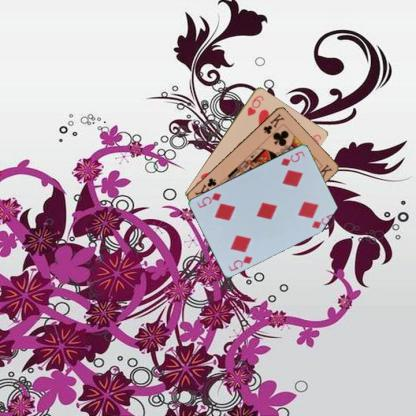5d: (226, 253, 254, 272), (279, 148, 306, 167)
6h: (244, 92, 264, 117)
Kc: (260, 110, 286, 136)
